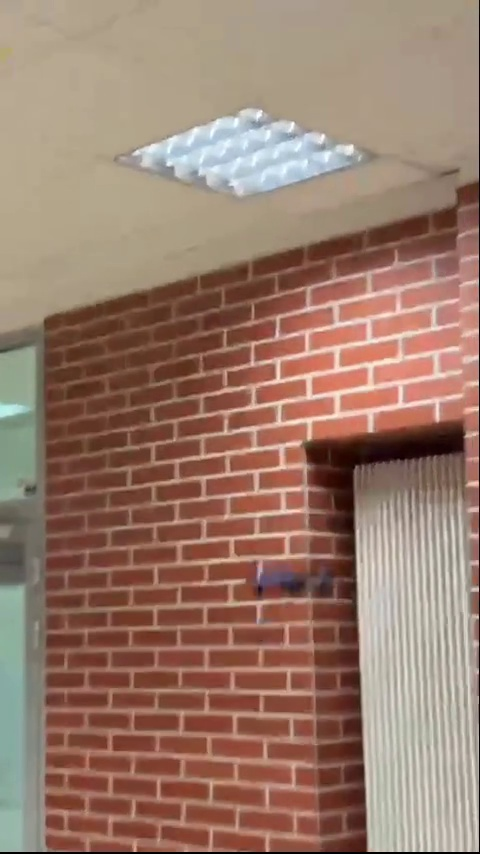drone: (249, 571, 345, 600)
